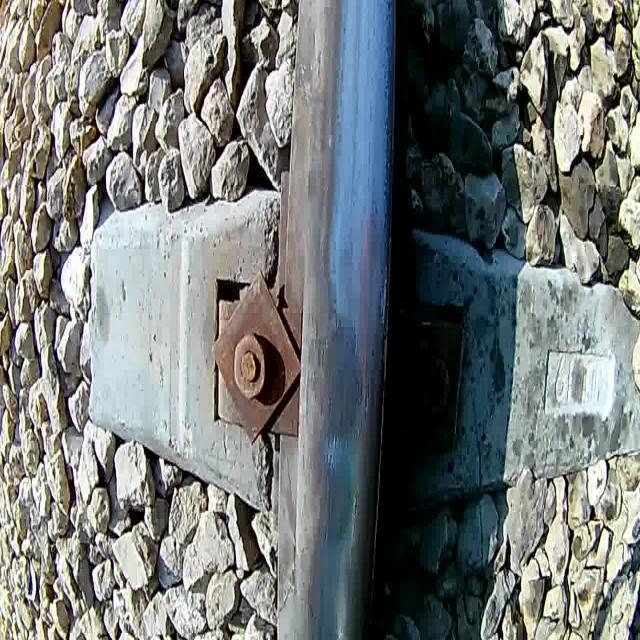Squats: (304, 308, 371, 449), (313, 449, 356, 552)
